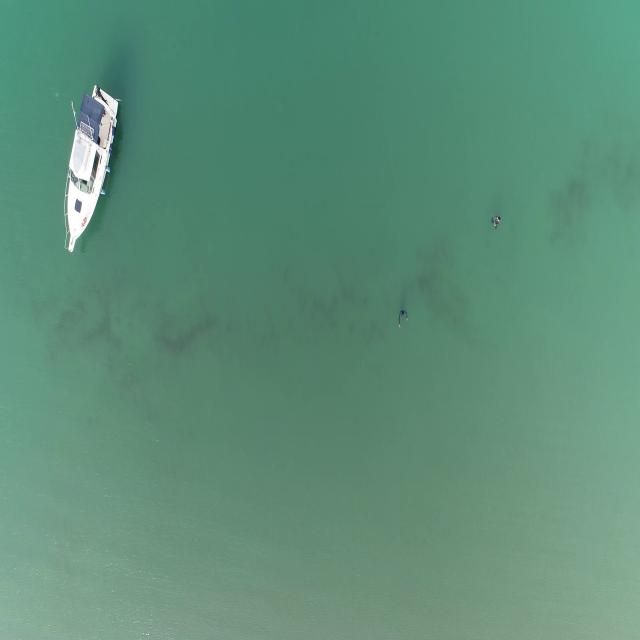boat: (60, 82, 120, 256)
person: (490, 211, 502, 238), (397, 308, 410, 330)
